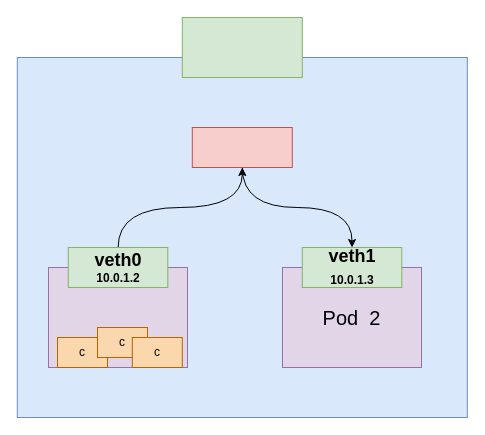
The diagram is 485 pixels wide and 435 high, and some of its shapes have lost their labels. The shapes that lost their labels are listed below. From the top down, each one's box as (x1, y1, x2, y2) in pixels, then its label:
(181, 16, 302, 78): eth0 10.100.0.2
(191, 126, 292, 168): cbr0 10.0.1.1
(48, 266, 188, 368): Pod 1
